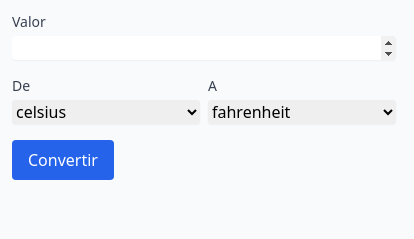
shows result after successful conversion
Type "0" into the number field labelled "Valor".
click(204, 48); type("0")  # box left=12, top=36, right=396, bottom=60
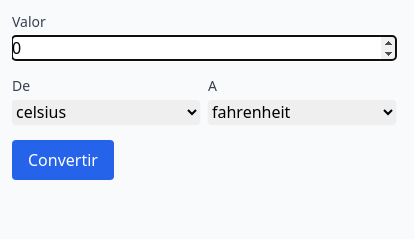
Click the button "Convertir".
click(63, 160)  # box left=12, top=140, right=114, bottom=180
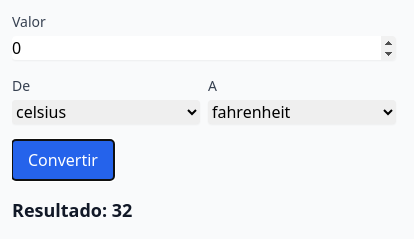
expect the text "Resultado: 32" is shown: met, box left=12, top=198, right=132, bottom=222
